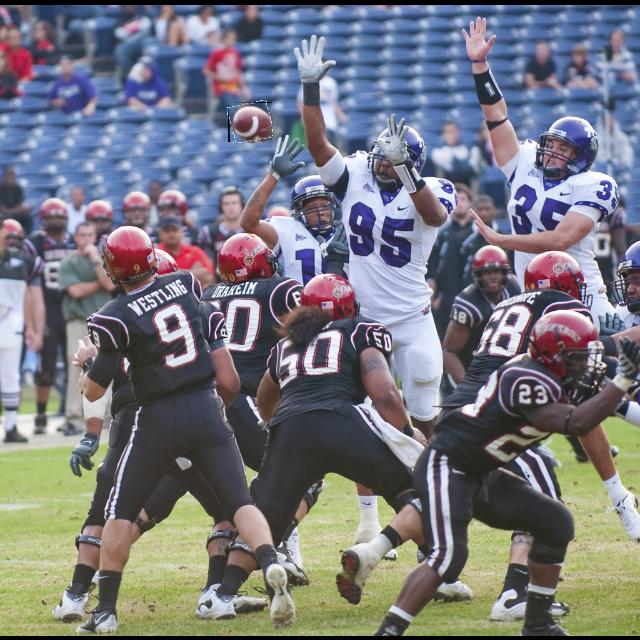Football: (228, 102, 272, 142)
